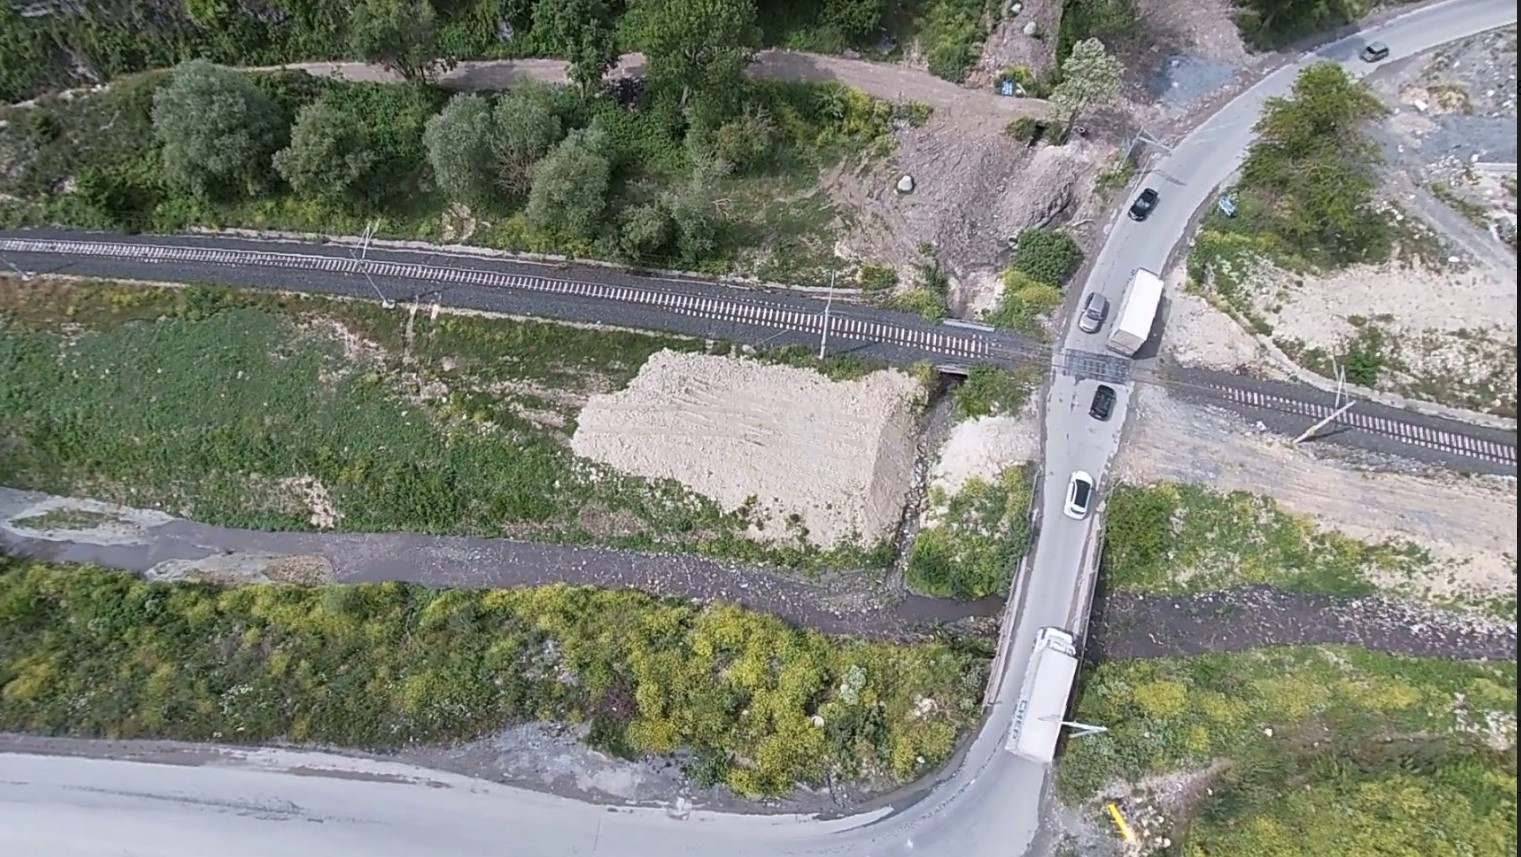araba: (1061, 469, 1093, 518), (1089, 380, 1119, 423), (1082, 289, 1107, 334), (1128, 189, 1159, 223), (1364, 40, 1391, 61)
kamyon: (1003, 627, 1092, 773), (1106, 263, 1169, 355)
